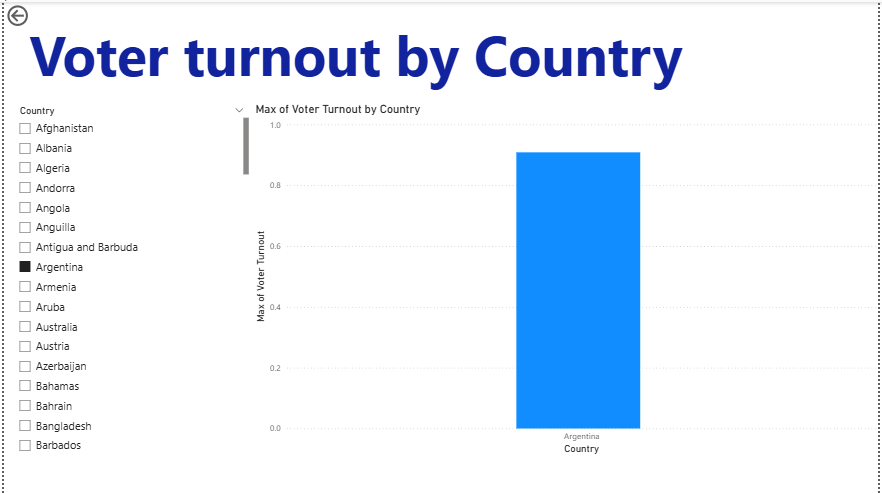

This screenshot's page, from the dashboard's own definition file:
{"tool":"powerbi","page":{"name":"Page 6","canvas":[1280,720],"ordinal":5},"visuals":[{"type":"textbox","box":[9.7,0,1270.8,145.8],"z":0},{"type":"columnChart","fields":{"Category":["cleaned_voter_turnout_with_country.Country"],"Y":["Max(cleaned_voter_turnout_with_country.Voter Turnout)"]},"box":[362.5,145.8,918.1,520.8],"z":1000},{"type":"actionButton","box":[0,0,100,40],"z":2000},{"type":"slicer","fields":{"Values":["cleaned_voter_turnout_with_country.Country"]},"box":[10,146,353,521],"z":3000}]}

Visuals, with their boxes on the page's 1280x720 design canvas (x1, y1, x2, y2). These are canvas units, not pixel positions in the 882x493 screenshot, which may show the page scaled, cropped or inside an application window:
textbox: x1=10, y1=0, x2=1280, y2=146
columnChart - cleaned_voter_turnout_with_country.Country x Max(cleaned_voter_turnout_with_country.Voter Turnout): x1=362, y1=146, x2=1281, y2=667
actionButton: x1=0, y1=0, x2=100, y2=40
slicer - cleaned_voter_turnout_with_country.Country: x1=10, y1=146, x2=363, y2=667
